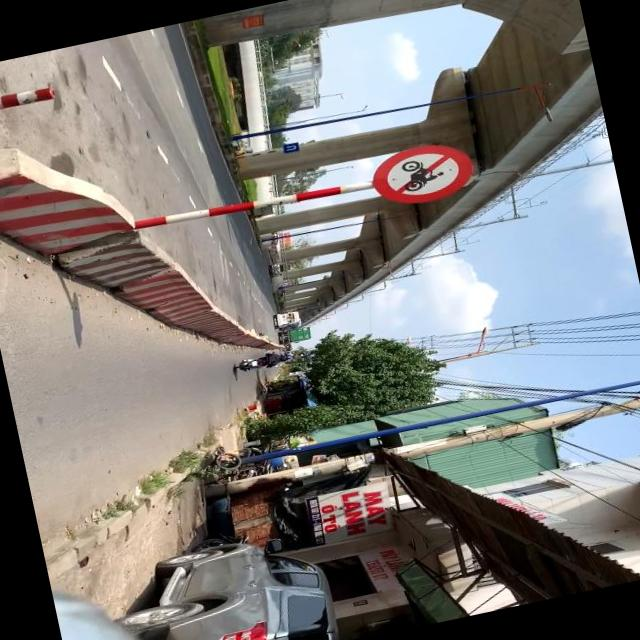P-104: (366, 134, 481, 213)
